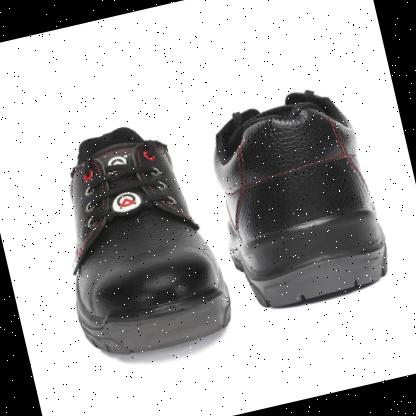bota: (32, 107, 244, 372), (195, 73, 400, 320)
